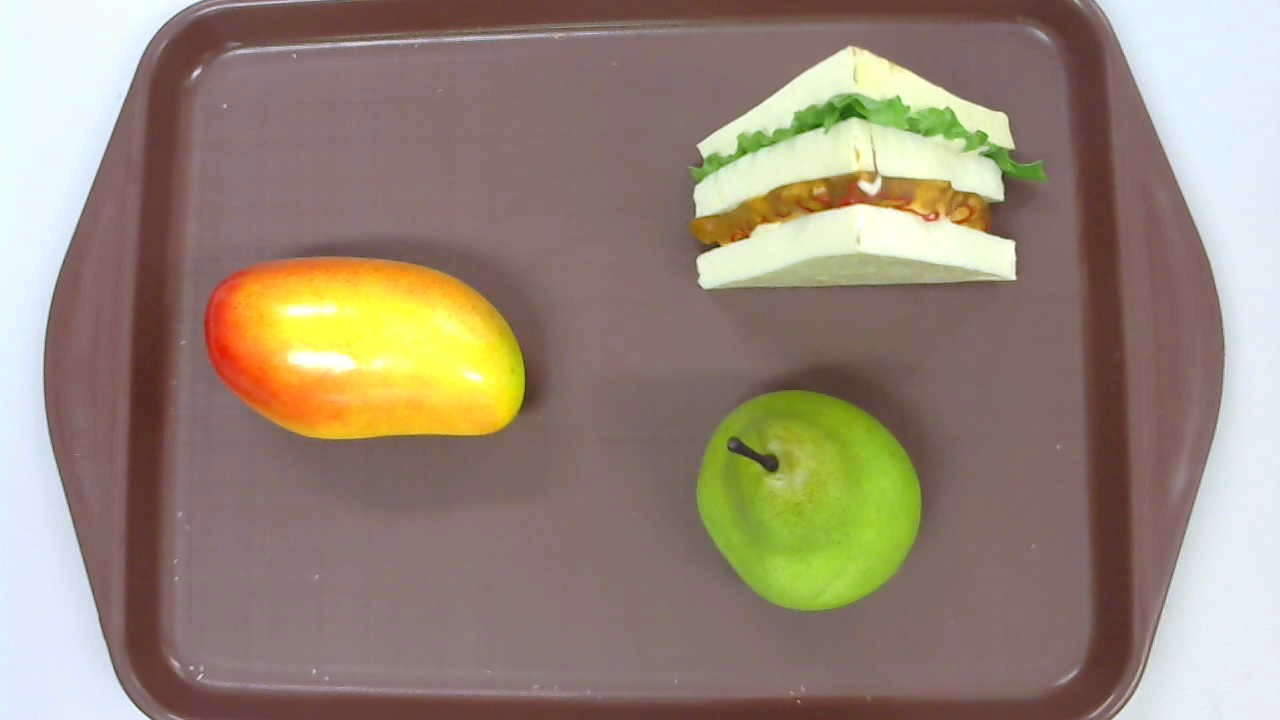green pear: (696, 390, 921, 610)
red mango: (203, 255, 525, 441)
sandwich: (688, 46, 1052, 290)
